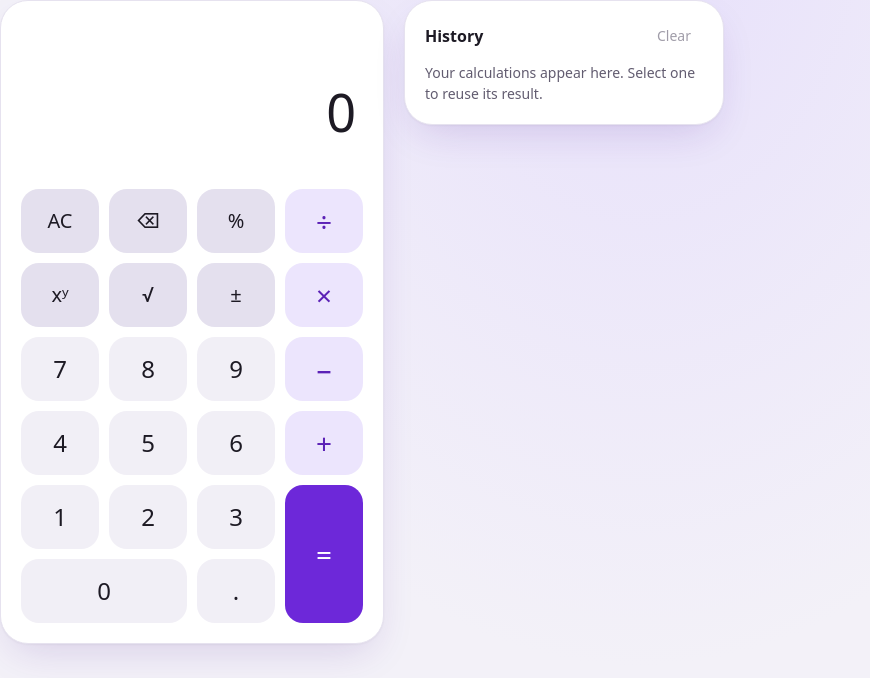
it: Calculator › calculates with the on-screen keys, through the API
This screenshot has width=870, height=678.
What coordinates should you click on to do the following:
click the button "1"
I would click on:
 (60, 517)
Its box is top-left (21, 485), bottom-right (99, 549).
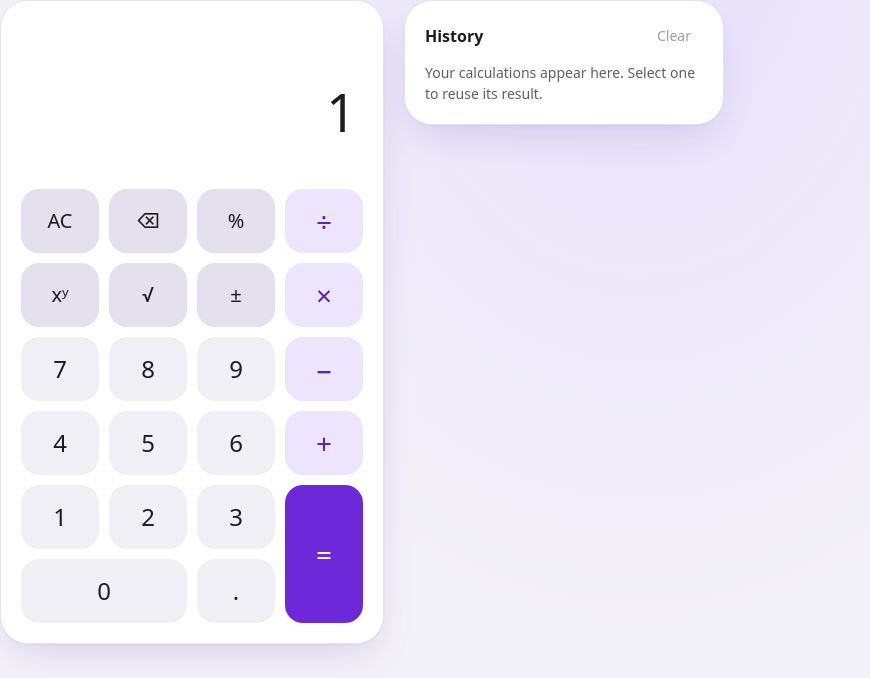
What coordinates should you click on to do the following:
click the button "2"
I would click on:
 (148, 517)
Its box is top-left (109, 485), bottom-right (187, 549).
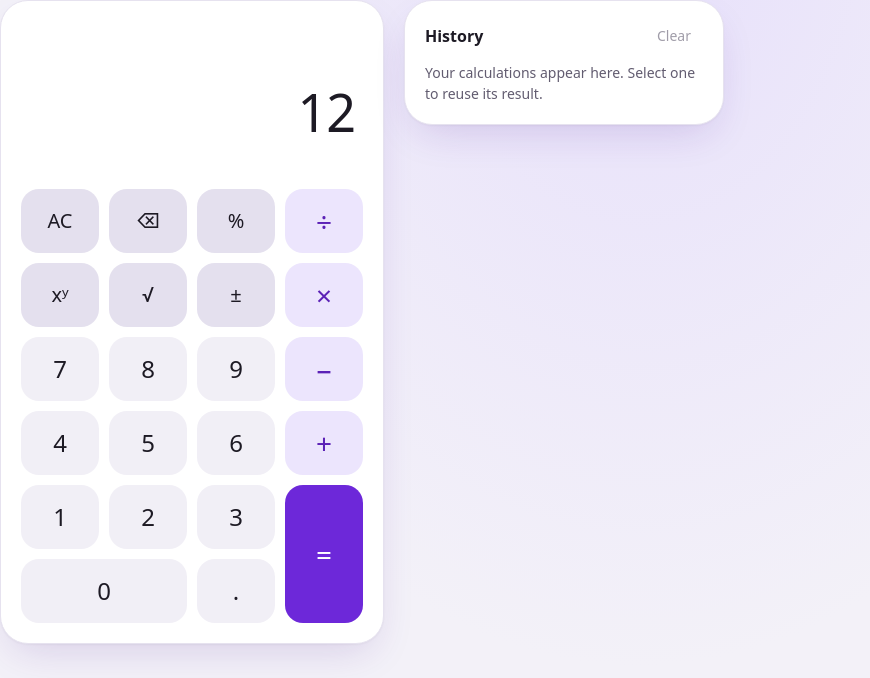
What coordinates should you click on to do the following:
click the button named "Add"
I would click on:
 (324, 443)
Its box is top-left (285, 411), bottom-right (363, 475).
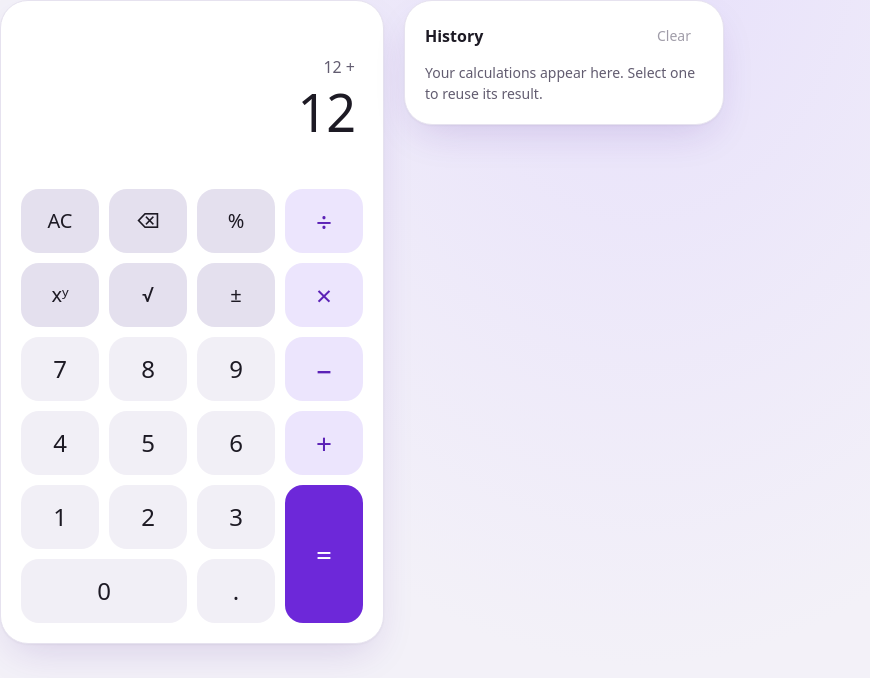
What coordinates should you click on to do the following:
click the button "7"
I would click on:
 (60, 369)
Its box is top-left (21, 337), bottom-right (99, 401).
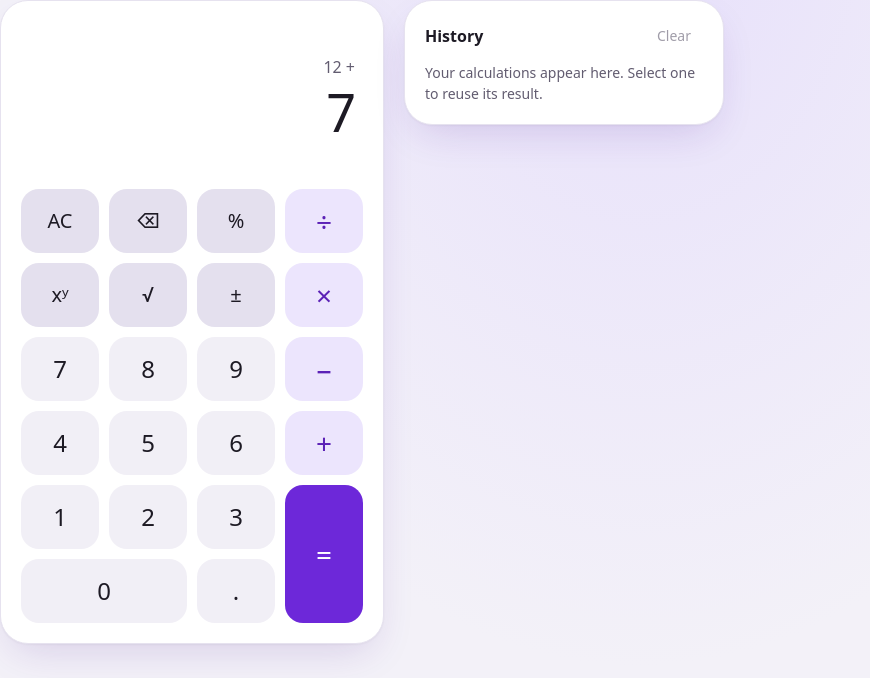
What coordinates should you click on to do the following:
click the button named "Equals"
I would click on:
 (324, 554)
Its box is top-left (285, 485), bottom-right (363, 623).
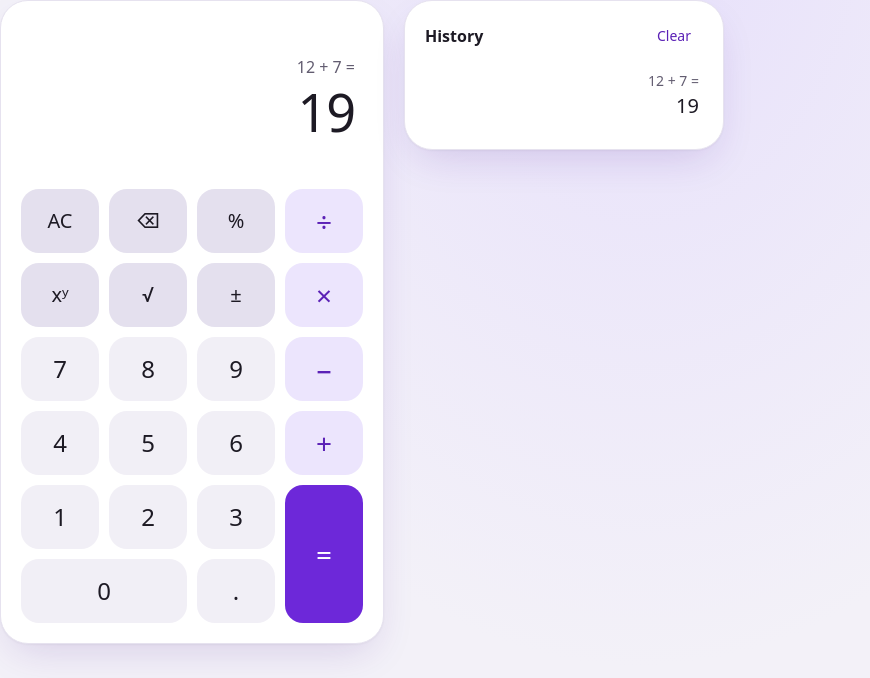
Expected: the 1st text "19" is shown, top-left (297, 83), bottom-right (355, 140)
Expected: the 1st text "12 + 7 =" is shown, top-left (297, 55), bottom-right (355, 79)
